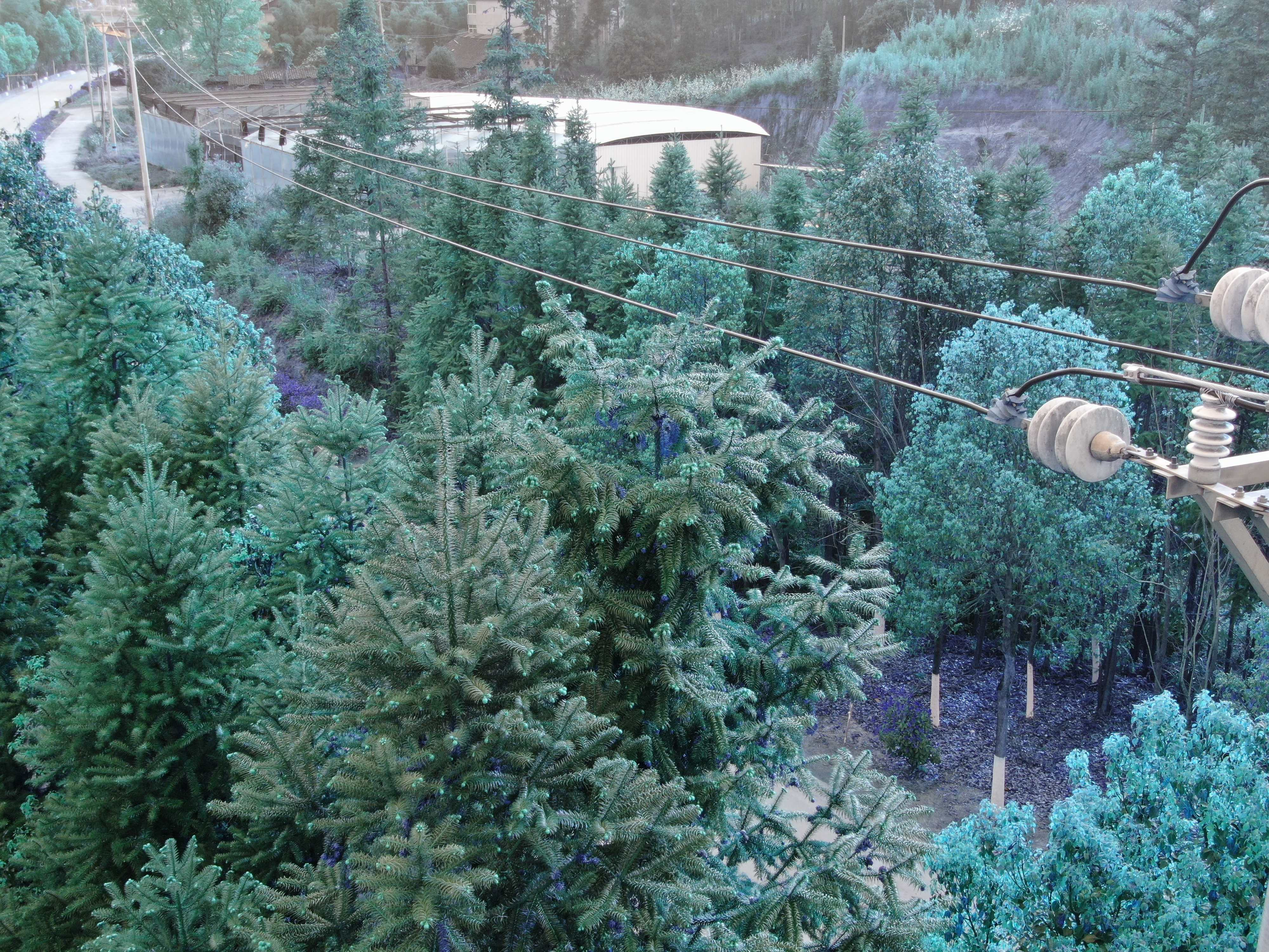severe_soiling_no_discharge_whole: (1024, 394, 1135, 486), (1182, 393, 1238, 486), (1208, 265, 1268, 347)
